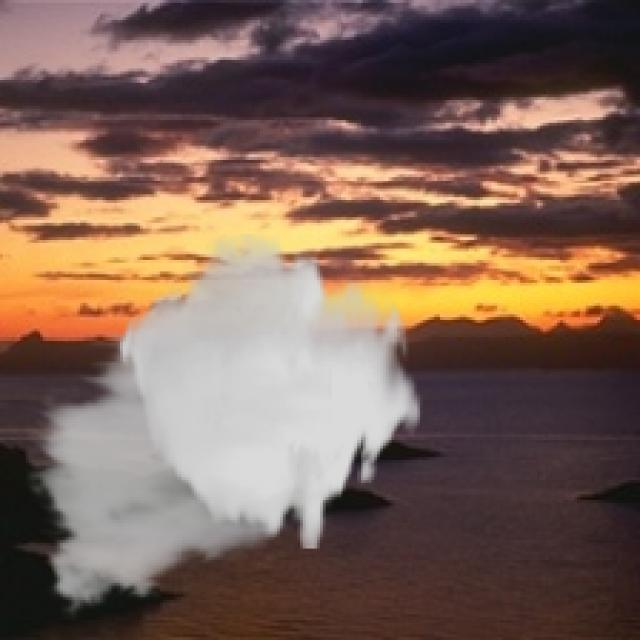smoke: (26, 234, 423, 623)
